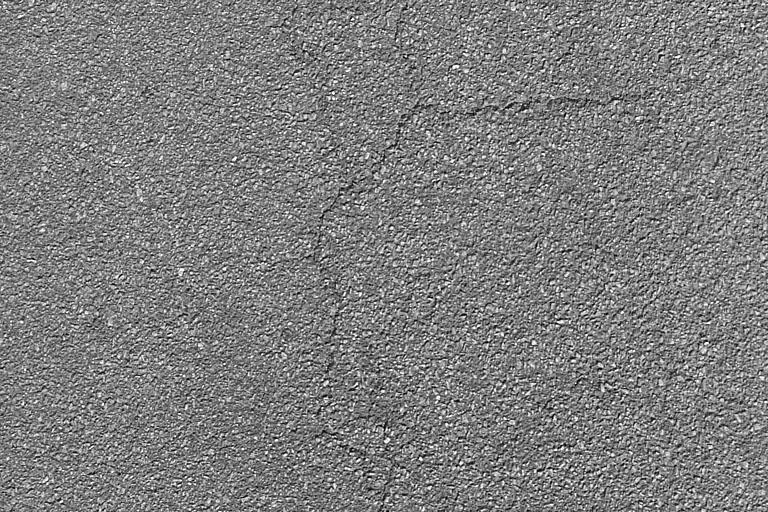crack: (307, 106, 421, 512), (416, 94, 637, 124), (387, 0, 432, 118)
